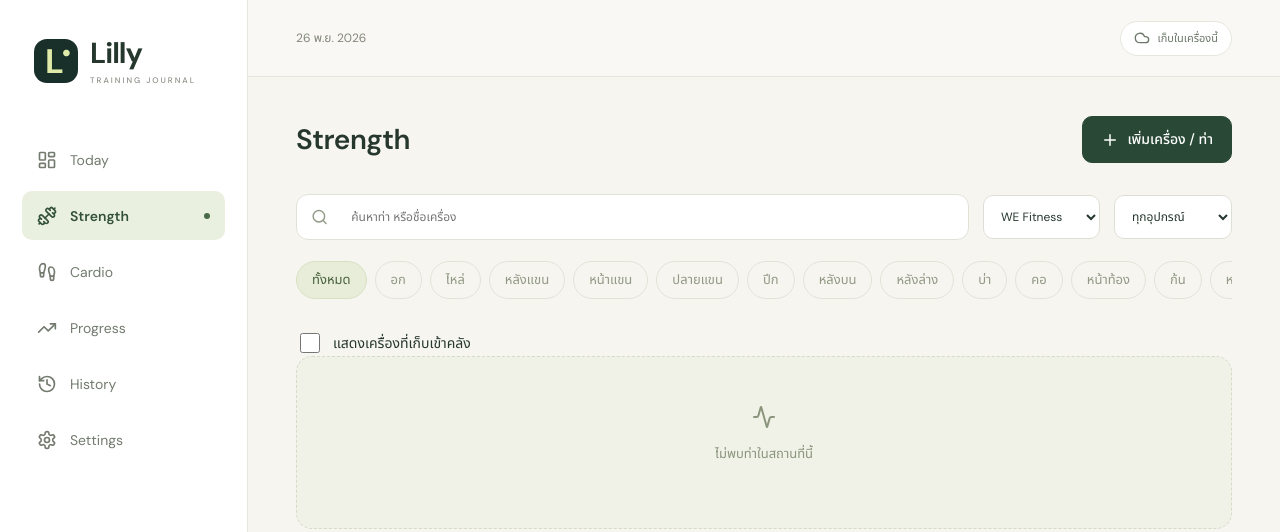
Test: shows Lying Dumbbell Triceps Extension under the home filter with editable photos
Later steps or results of the test are not shown.
Select "ที่บ้าน" in the dropdown named "ฟิตเนส": (1042, 217) [983, 195, 1100, 239]
(page scrolled)
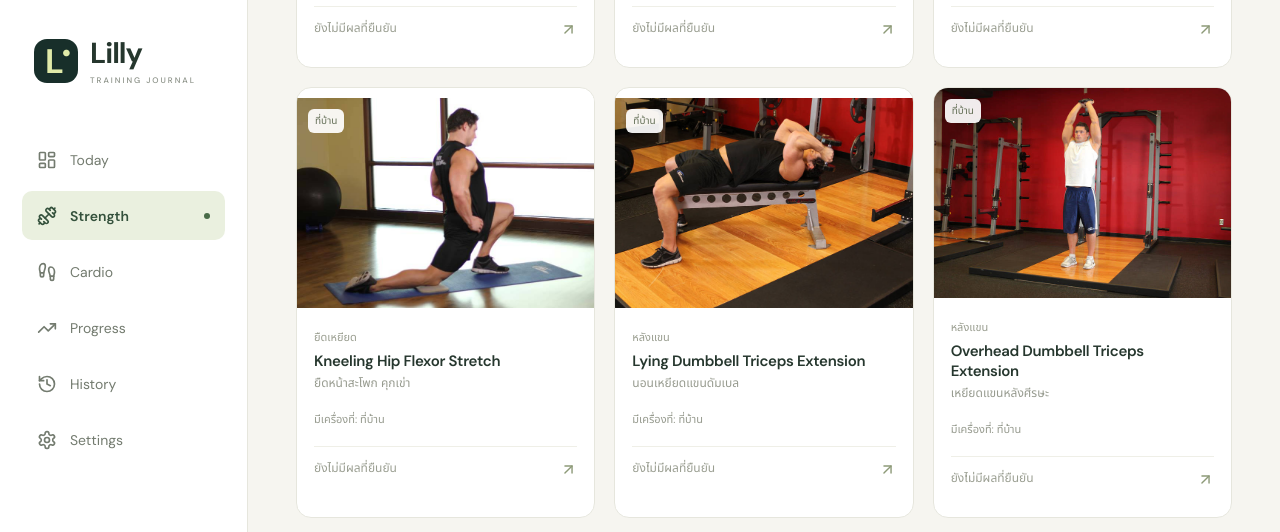
Click the heading "Lying Dumbbell Triceps Extension": (764, 360) [632, 350, 896, 370]
(page scrolled)
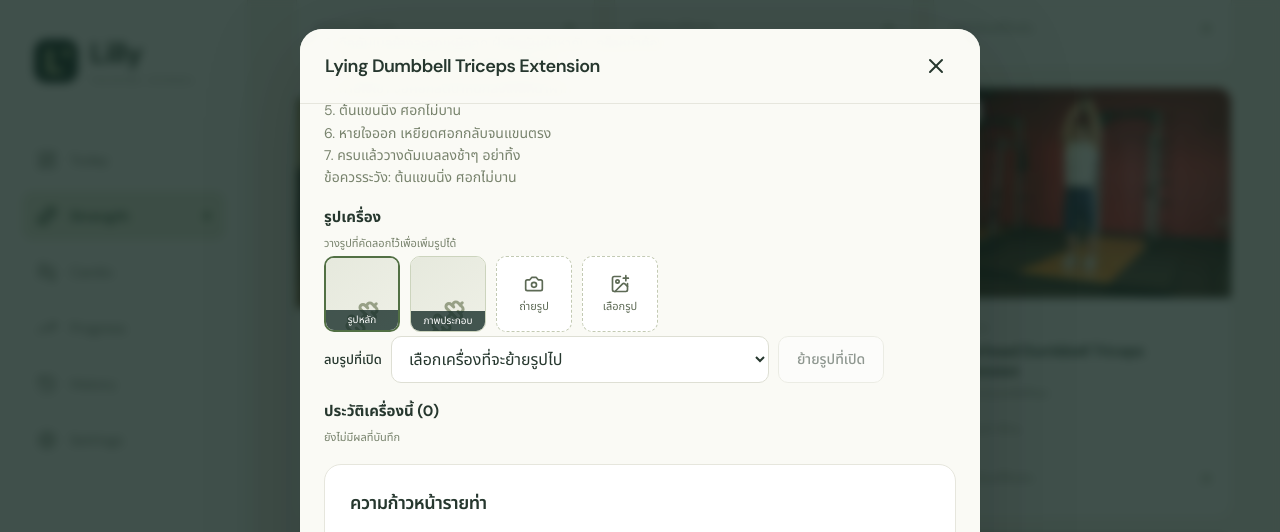
Result: the button "รูปหลัก" is shown at [324, 256, 400, 332]
Result: the number of buttons named "เปิดรูปเครื่อง" is 1 at [410, 256, 486, 332]
Result: the file field labelled "เลือกรูป" is shown at [582, 256, 658, 332]
